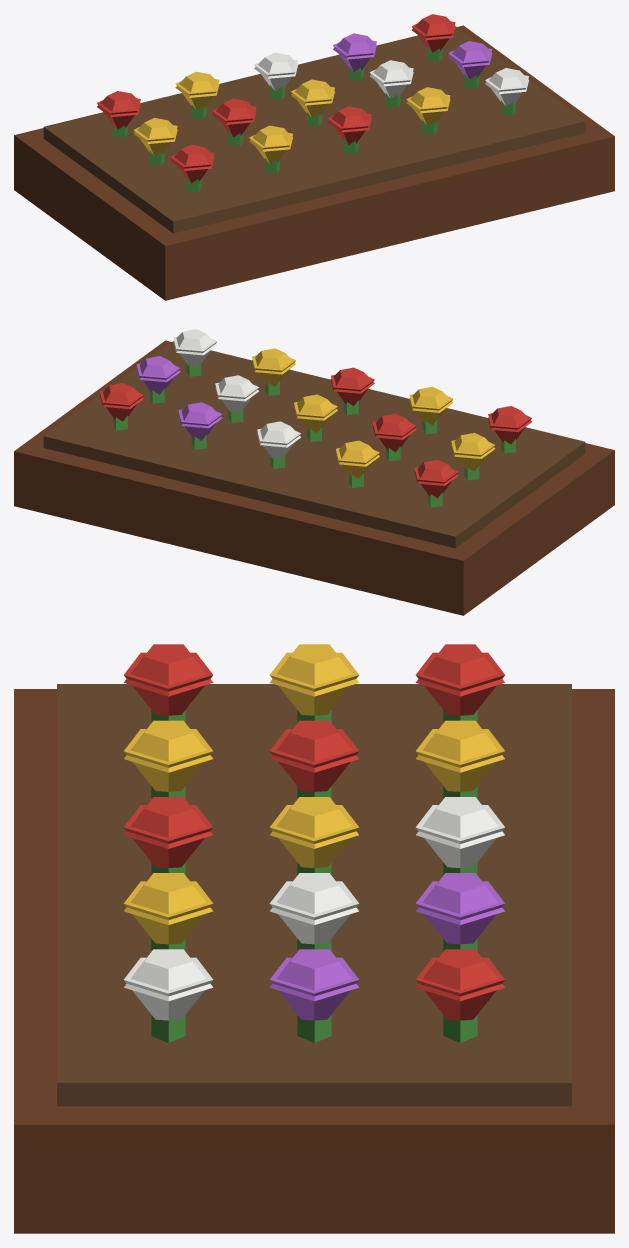
The model's file is a-flower-bed.glb.
The picture shows the model from 3 angles, top to bottom: view 1: azimuth 30°, elevation 25°; view 2: azimuth 150°, elevation 25°; view 3: azimuth 270°, elevation 25°; orthographic projection. The views are drawn at different scales.
Visible parts, largest first — view 1: a-flower-bed; view 2: a-flower-bed; view 3: a-flower-bed.
Part boxes in pixels (x1,y1,x2,y2): a-flower-bed: (14,14,614,300); a-flower-bed: (14,329,614,615); a-flower-bed: (14,644,614,1233).
Size of the model in its own units: 1.2 by 0.27 by 0.7.
